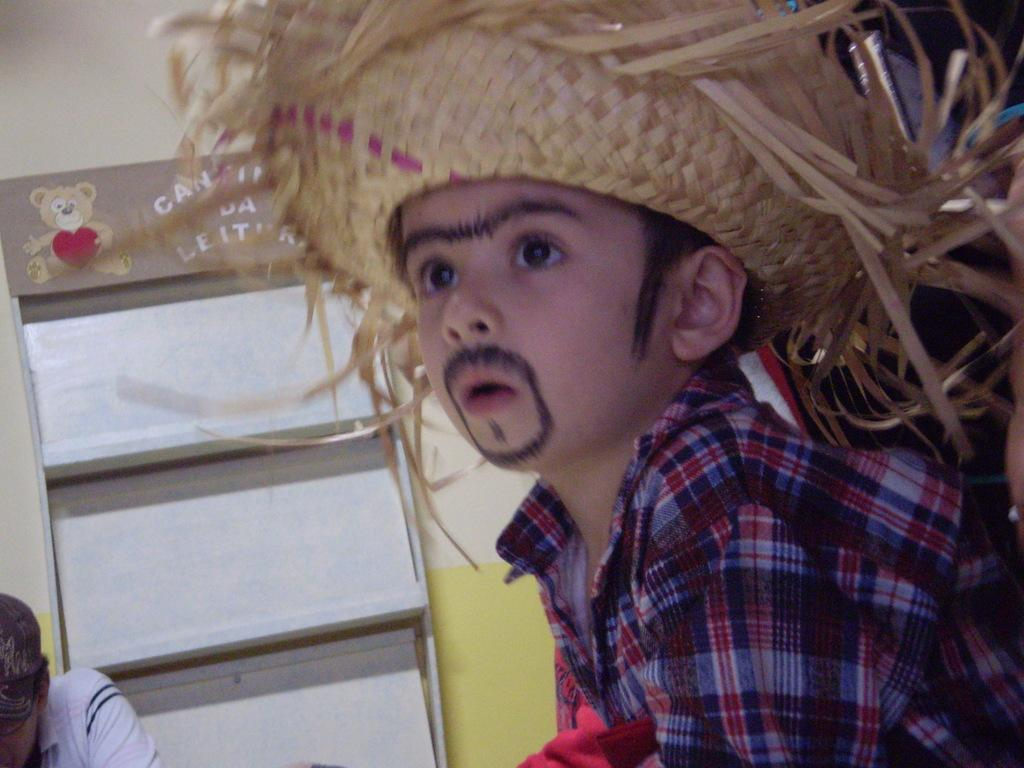Hat: (44, 0, 1024, 577)
